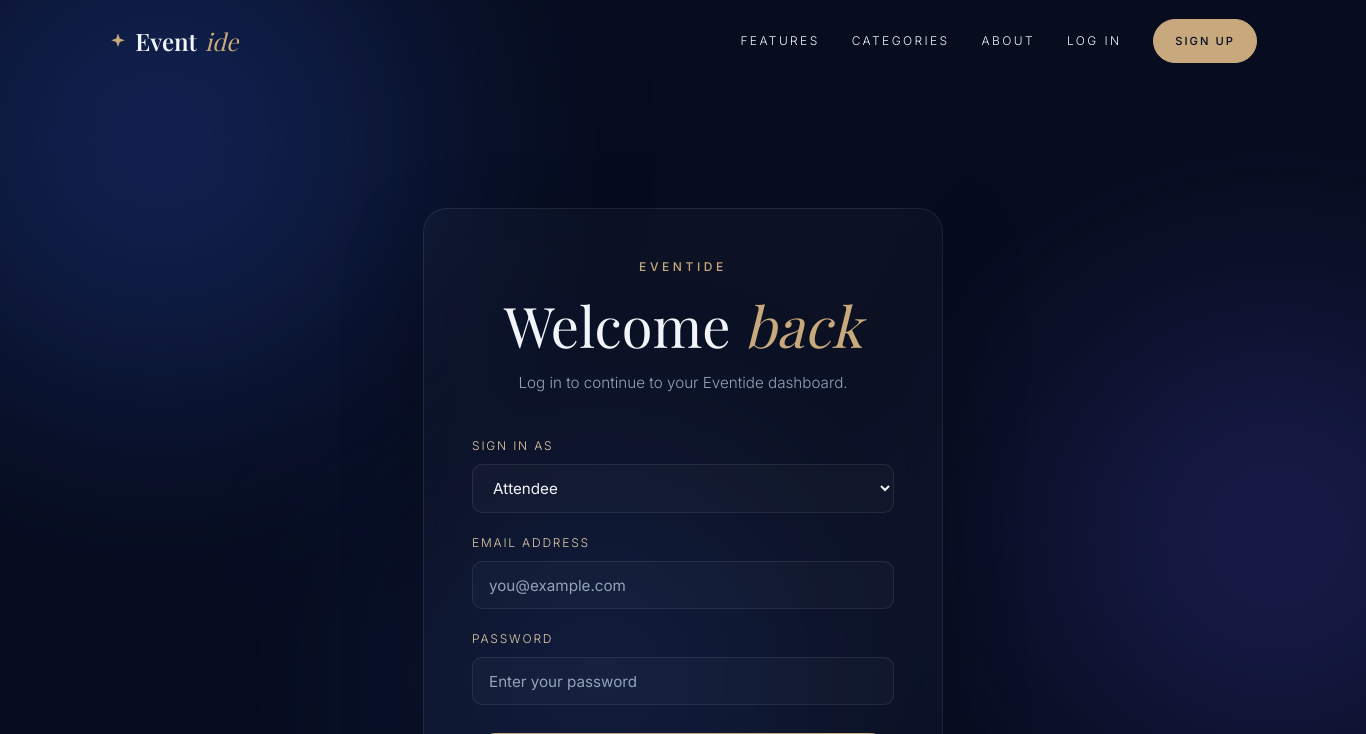
EMS-FR-01 Landing page in the app › the logo returns to the landing page from the login page
This screenshot has width=1366, height=734.
Click the link with aria-label "Eventide home": (174, 41) x1=109 y1=25 x2=238 y2=57
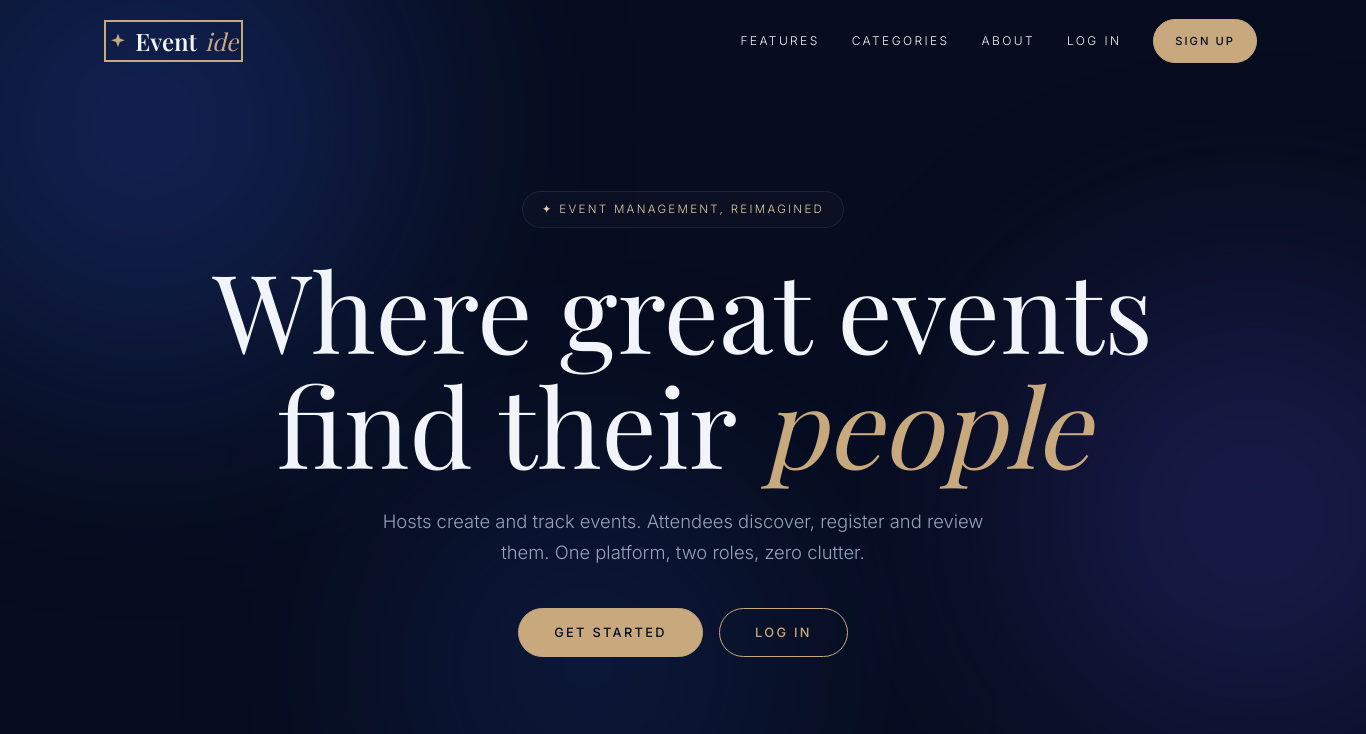
expect the heading "Where great events find their people" is shown: met, box x1=183 y1=252 x2=1183 y2=482
